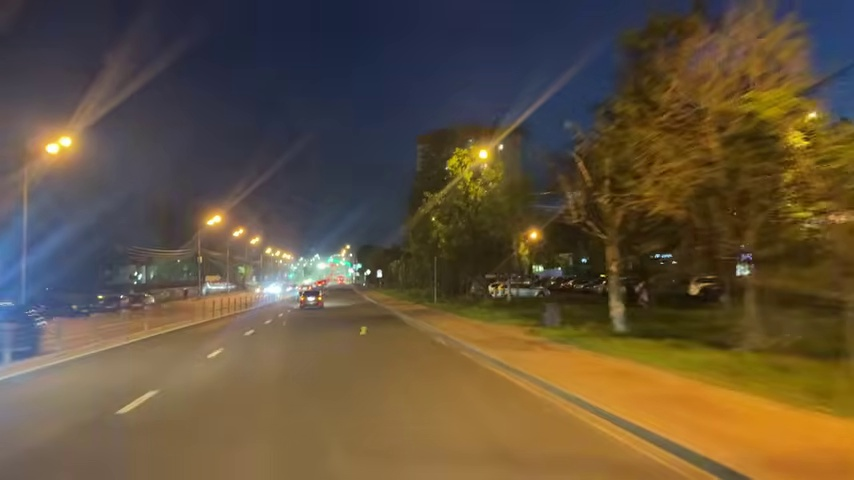acesa: (41, 132, 76, 162), (203, 210, 225, 230), (523, 227, 542, 245), (473, 146, 492, 163), (233, 225, 248, 241)
